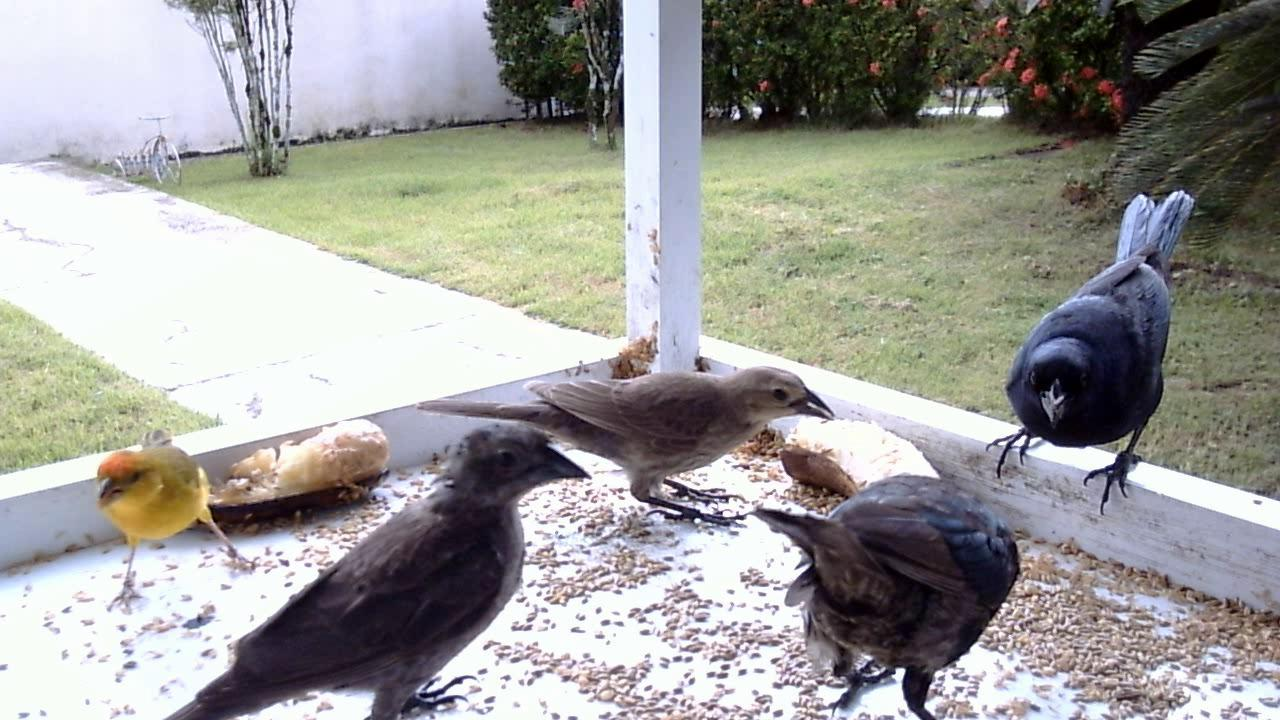canario_do_amazonas: (85, 423, 255, 612)
chupim: (143, 417, 591, 720), (986, 178, 1210, 530), (731, 461, 1029, 720), (417, 359, 821, 537)
